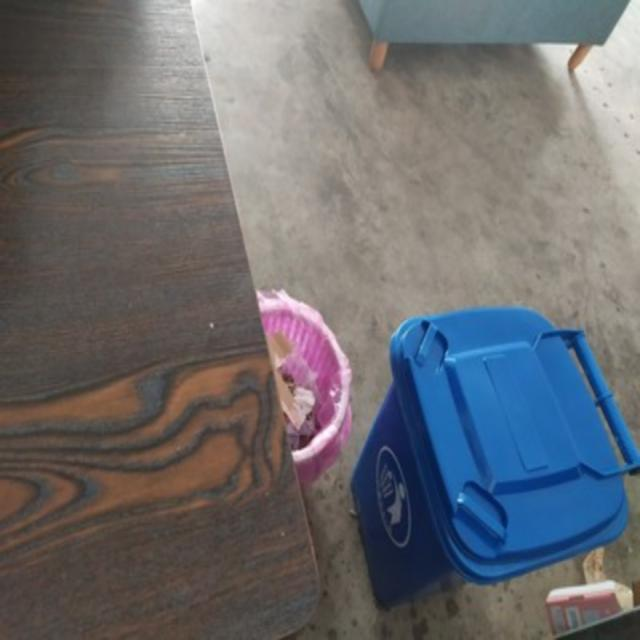ash bin: (341, 303, 638, 612)
